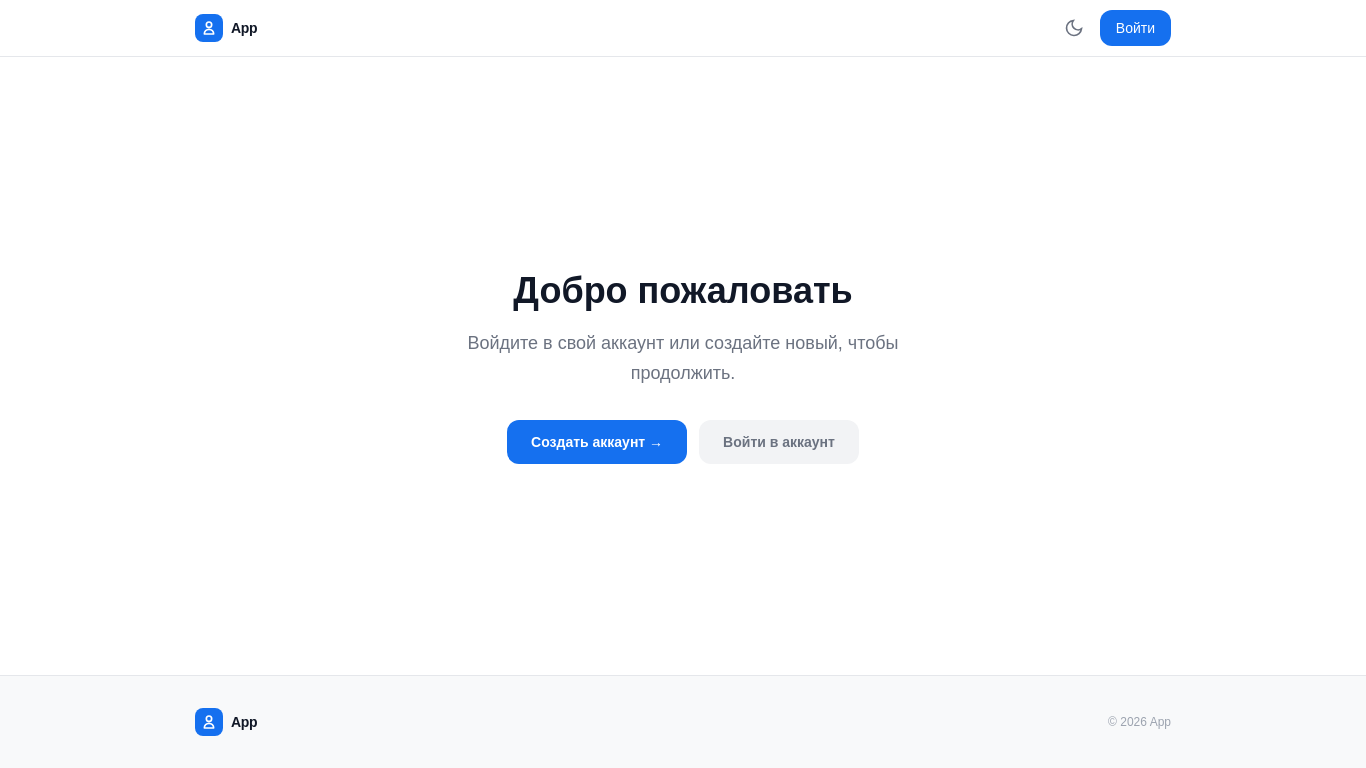
Test: Home + AuthModal (login/register/forgot) › клик «Нет аккаунта» переключает в режим регистрации
Click the button "Войти" at (1135, 28), box [1100, 10, 1171, 46]
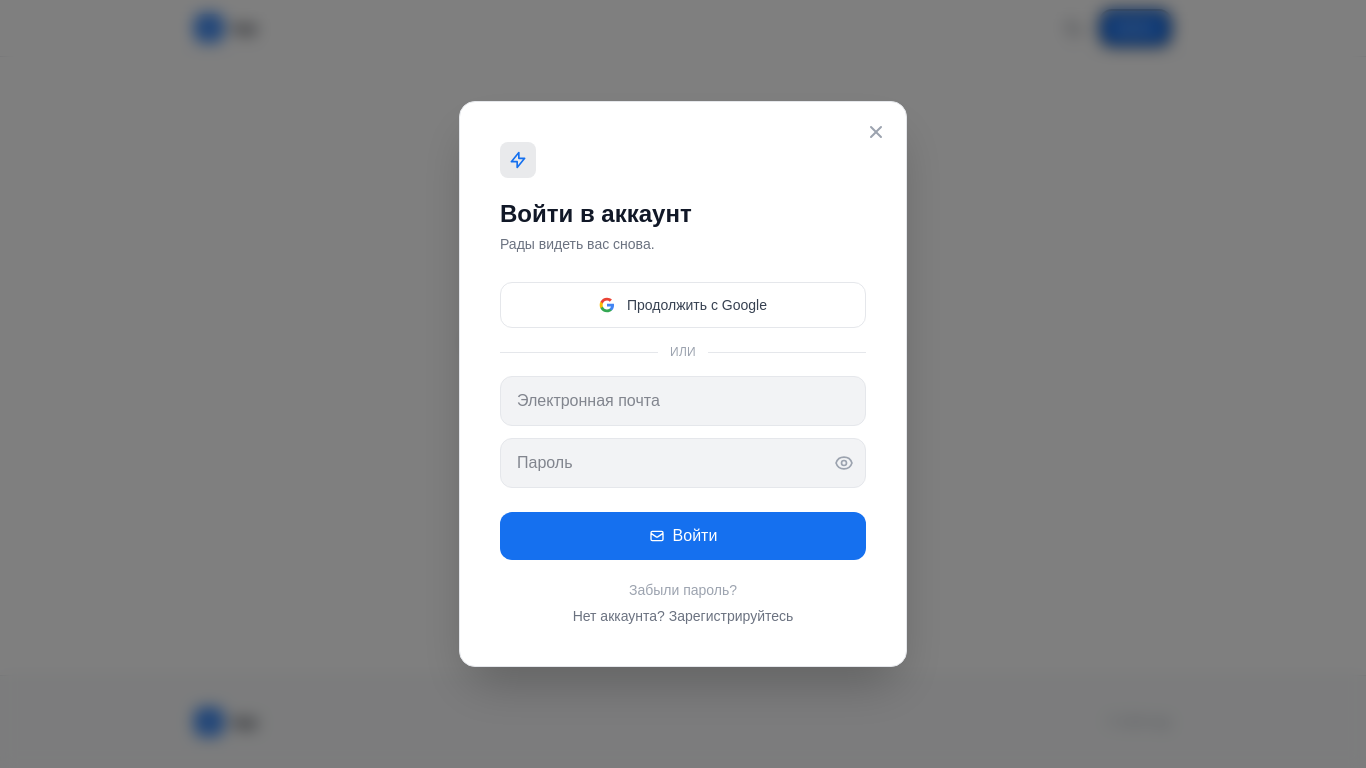
Click the button "Нет аккаунта? Зарегистрируйтесь" at (683, 616), box [500, 606, 866, 626]
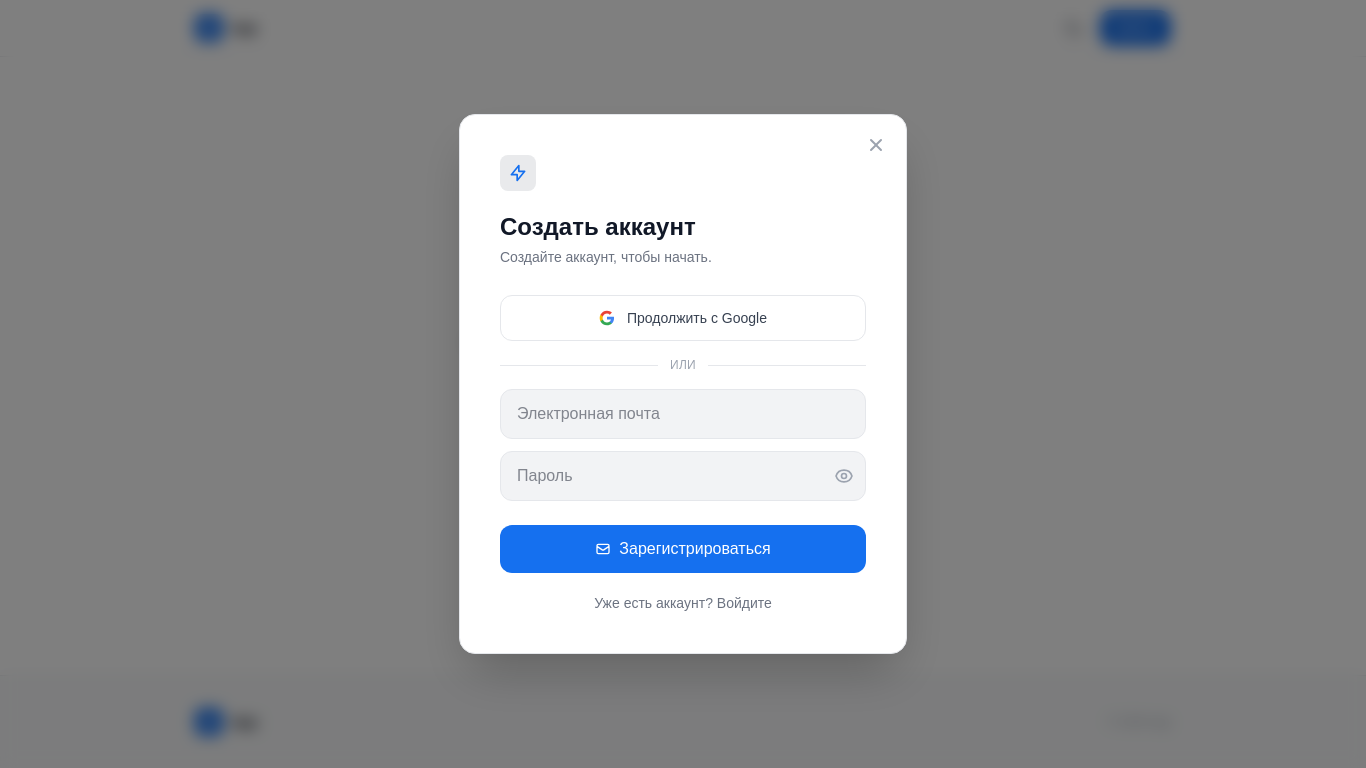
expect the heading "Создать аккаунт" is shown: met, box [500, 213, 696, 240]
expect the button "Зарегистрироваться" is shown: met, box [500, 525, 866, 573]
